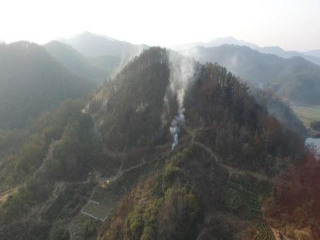smoke: (159, 42, 203, 154)
